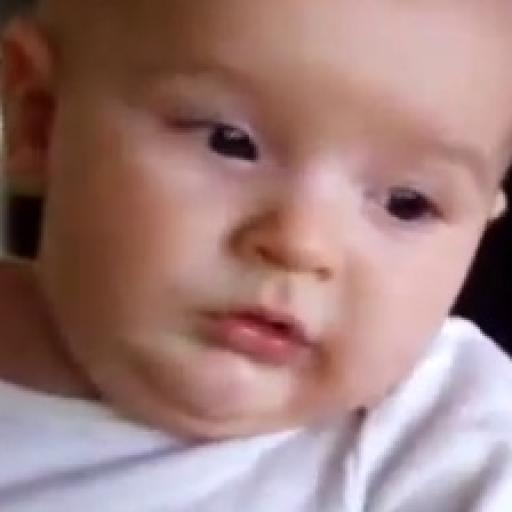Autism: (39, 18, 512, 428)
